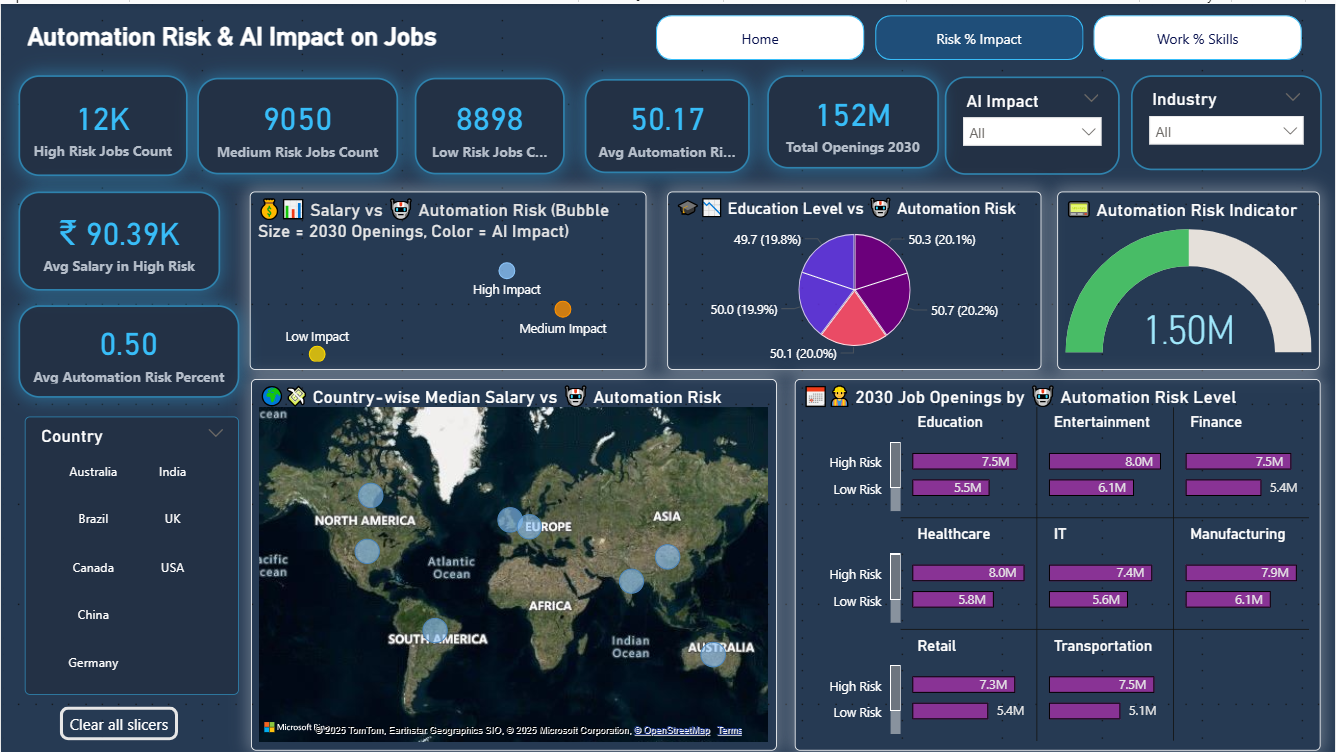

Layout of this report page (visuals, bound fields, positions):
{"tool":"powerbi","page":{"name":"Risk % Impact","canvas":[1280,720],"ordinal":2},"visuals":[{"type":"pageNavigator","box":[628.6,10.9,620.1,43.4],"z":0},{"type":"textbox","title":"Automation Risk & AI Impact on Jobs","box":[20.4,16.6,439.1,31.9],"z":1000},{"type":"slicer","fields":{"Values":["AI_Job_Trends.Experience Level"]},"box":[906.2,69.6,168.2,94.2],"z":2000},{"type":"slicer","fields":{"Values":["AI_Job_Trends.Industry"]},"box":[1084.3,68.6,182.9,91.4],"z":3000},{"type":"scatterChart","title":"💰📊 Salary vs 🤖 Automation Risk (Bubble Size = 2030 Openings, Color = AI Impact)","fields":{"X":["Sum(AI_Job_Trends.Automation Risk (%))"],"Size":["Sum(AI_Job_Trends.Projected Openings (2030))"],"Series":["AI_Job_Trends.AI Impact Bucket"],"Y":["Sum(AI_Job_Trends.Median Salary (USD))"]},"box":[239.3,179.8,381,171.4],"z":4000},{"type":"clusteredBarChart","title":"📅👷♂️ 2030 Job Openings by 🤖 Automation Risk Level","fields":{"Category":["AI_Job_Trends.Automation Risk Category"],"Y":["AI Jobs Measures.Total Openings 2030"],"Rows":["AI_Job_Trends.Industry"]},"box":[761.9,359.5,504.8,357.1],"z":5000},{"type":"card","fields":{"Values":["AI Jobs Measures.Avg Automation Risk"]},"box":[560.4,71.5,158.3,90.6],"z":6000},{"type":"card","fields":{"Values":["AI Jobs Measures.Avg Automation Risk Percent"]},"box":[16.2,289.5,212.1,88.6],"z":7000},{"type":"card","fields":{"Values":["AI Jobs Measures.High Risk Jobs Count"]},"box":[16.6,68.9,162.1,97],"z":8000},{"type":"card","fields":{"Values":["AI Jobs Measures.Medium Risk Jobs Count"]},"box":[188.9,70.2,192.7,93.2],"z":9000},{"type":"card","fields":{"Values":["AI Jobs Measures.Low Risk Jobs Count"]},"box":[397,70.2,144.2,93.2],"z":11000},{"type":"card","fields":{"Values":["AI Jobs Measures.Total Openings 2030"]},"box":[735.2,68.9,164.7,89.4],"z":12000},{"type":"map","title":"🌍💸 Country-wise Median Salary vs 🤖 Automation Risk","fields":{"Category":["AI_Job_Trends.Country"],"Size":["Sum(AI_Job_Trends.Median Salary (USD))"]},"box":[240.5,359.5,504.8,357.1],"z":13000},{"type":"gauge","title":"📟 Automation Risk Indicator","fields":{"Y":["Sum(AI_Job_Trends.Automation Risk (%))"]},"box":[1014.3,179.8,252.4,171.4],"z":14000},{"type":"pieChart","title":"🎓📉 Education Level vs 🤖 Automation Risk","fields":{"Category":["AI_Job_Trends.Education Status"],"Y":["AI Jobs Measures.Avg Automation Risk"],"Series":["Education.Required Education"]},"box":[639.3,179.8,359.5,171.4],"z":15000},{"type":"actionButton","box":[56.2,673.8,113.6,32.4],"z":16000},{"type":"slicer","fields":{"Values":["AI_Job_Trends.Country"]},"box":[22.5,395.6,205.9,267],"z":17000},{"type":"card","fields":{"Values":["AI Jobs Measures.Avg Salary High Risk"]},"box":[16.2,179.7,193.4,94.8],"z":18000}]}

Visuals, with their boxes in screenshot pixels (x1, y1, x2, y2), scaled from the page's 1280x720 canvas onto the 1336x752 screenshot:
pageNavigator: x1=656, y1=11, x2=1303, y2=57
"Automation Risk & AI Impact on Jobs" textbox: x1=21, y1=17, x2=480, y2=51
slicer - AI_Job_Trends.Experience Level: x1=946, y1=73, x2=1121, y2=171
slicer - AI_Job_Trends.Industry: x1=1132, y1=72, x2=1323, y2=167
"💰📊 Salary vs 🤖 Automation Risk (Bubble Size = 2030 Openings, Color = AI Impact)" scatterChart: x1=250, y1=188, x2=647, y2=367
"📅👷♂️ 2030 Job Openings by 🤖 Automation Risk Level" clusteredBarChart: x1=795, y1=375, x2=1322, y2=748
card - AI Jobs Measures.Avg Automation Risk: x1=585, y1=75, x2=750, y2=169
card - AI Jobs Measures.Avg Automation Risk Percent: x1=17, y1=302, x2=238, y2=395
card - AI Jobs Measures.High Risk Jobs Count: x1=17, y1=72, x2=187, y2=173
card - AI Jobs Measures.Medium Risk Jobs Count: x1=197, y1=73, x2=398, y2=171
card - AI Jobs Measures.Low Risk Jobs Count: x1=414, y1=73, x2=565, y2=171
card - AI Jobs Measures.Total Openings 2030: x1=767, y1=72, x2=939, y2=165
"🌍💸 Country-wise Median Salary vs 🤖 Automation Risk" map: x1=251, y1=375, x2=778, y2=748
"📟 Automation Risk Indicator" gauge: x1=1059, y1=188, x2=1322, y2=367
"🎓📉 Education Level vs 🤖 Automation Risk" pieChart: x1=667, y1=188, x2=1042, y2=367
actionButton: x1=59, y1=704, x2=177, y2=738
slicer - AI_Job_Trends.Country: x1=23, y1=413, x2=238, y2=692
card - AI Jobs Measures.Avg Salary High Risk: x1=17, y1=188, x2=219, y2=287
